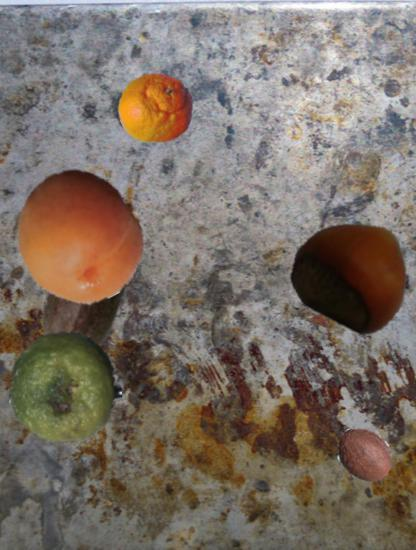Apricot: (11, 168, 149, 306)
Cocos: (334, 424, 396, 486)
Limes: (8, 330, 121, 443)
Mandarine: (118, 71, 193, 146)
Nut: (9, 224, 158, 373), (294, 212, 413, 331)
